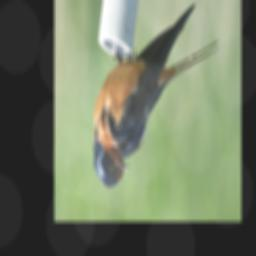Swallow: (92, 6, 220, 191)
